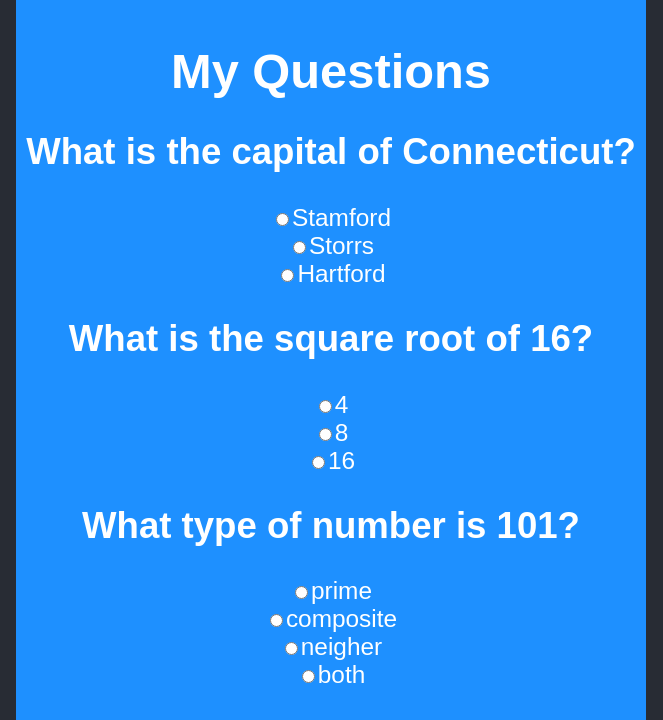
Test: displays results after quiz is completed
Note: Simulate answering the questions
Click the text "Hartford" at (331, 273), box [276,260,386,287]
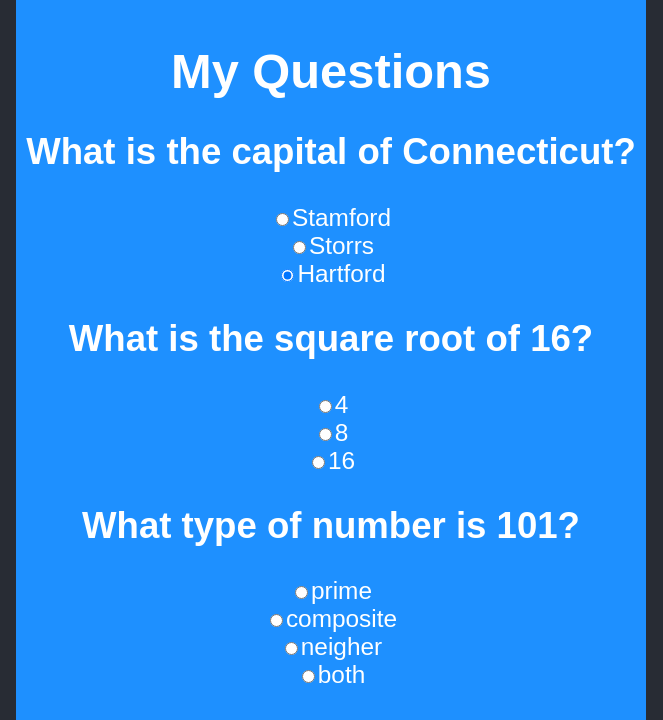
Click the label "4" at (331, 404), box [314,390,348,418]
(page scrolled)
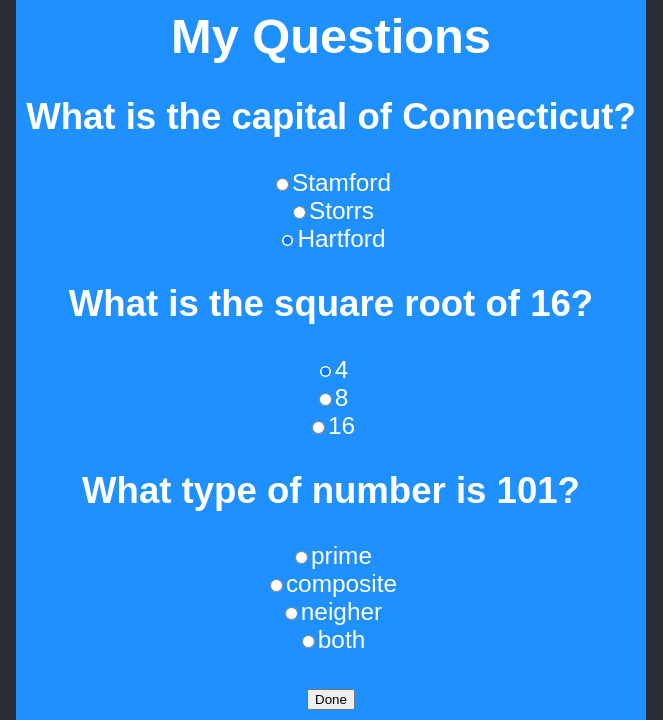
Note: Click the 'Done' button to submit the quiz
Click the button "Done" at (331, 700), box [307,689,355,710]
(page scrolled)
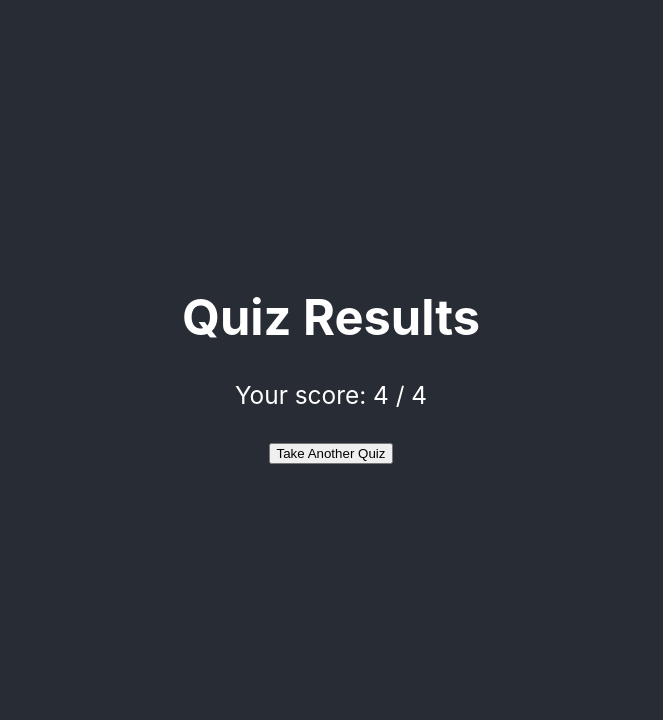
Check: the heading "Quiz Results" is shown, box [182,288,480,347]
Check: the text "Your score: 4 / 4" is shown, box [235,380,427,410]
